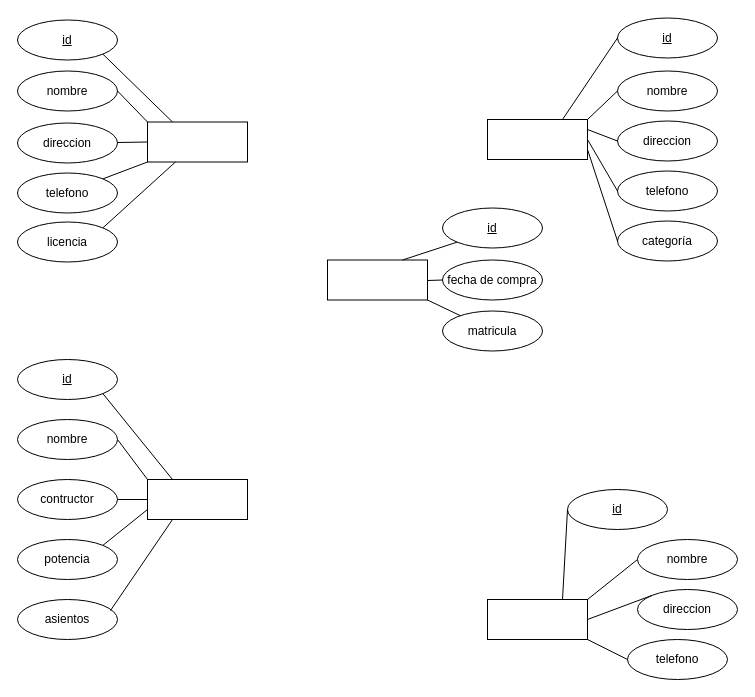
The diagram is 755 pixels wide and 697 high, and some of its shapes have lost their labels. The shapes that lost their labels are listed below. From the top down, each one's centre as x and y in pixels, then its label:
At point 197,141: "Piloto".
At point 537,139: "Propietario".
At point 377,279: "Avion".
At point 197,499: "Tipo_Avion".
At point 537,619: "Mecanico".
